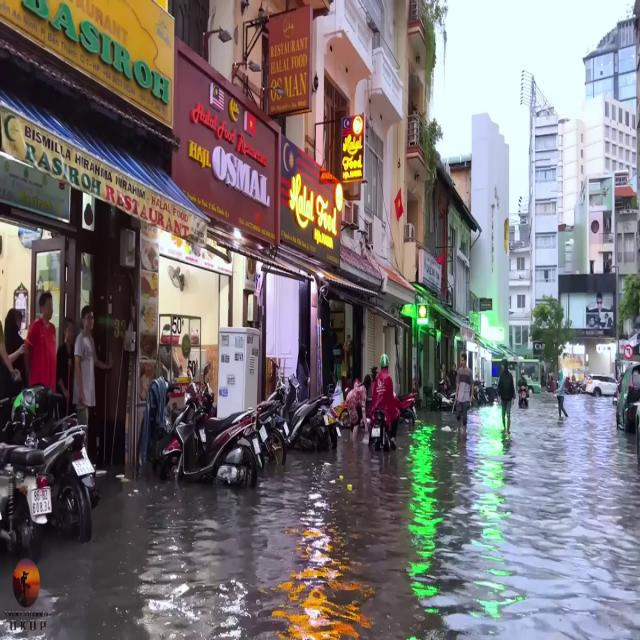bien_trang: (29, 490, 52, 517)
